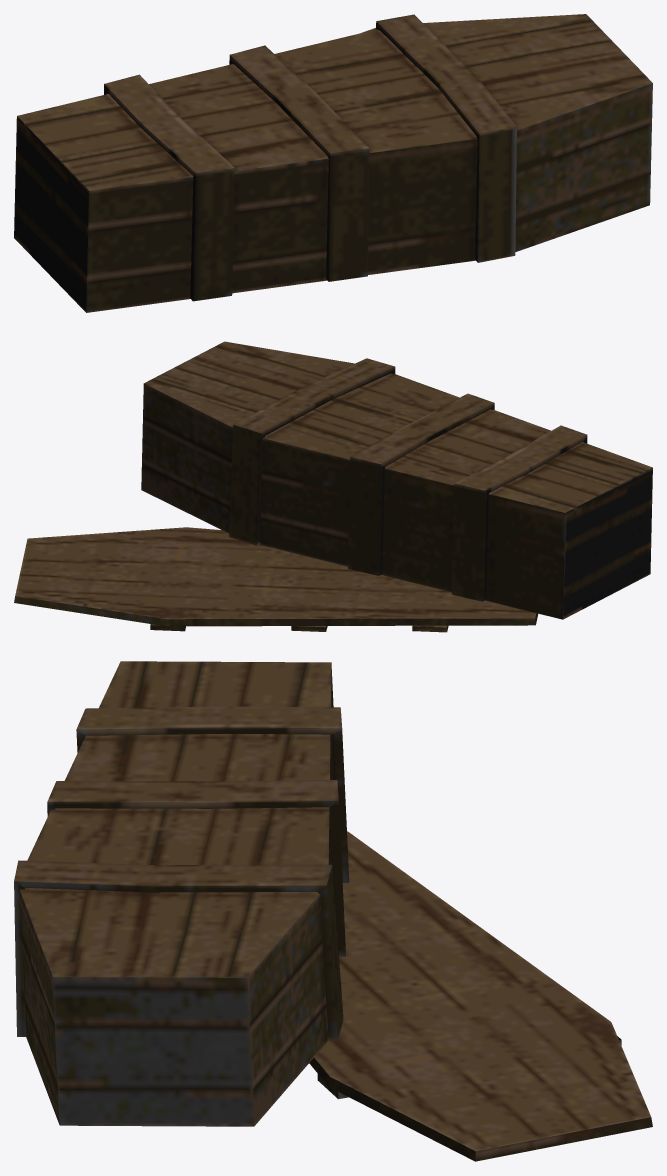
The model's file is Coffin_ExtraLid.fbx.
3 renders of one model, top to bottom at view 1: azimuth 30°, elevation 25°; view 2: azimuth 150°, elevation 25°; view 3: azimuth 270°, elevation 25°, orthographic. The views are drawn at different scales.
Parts seen in each view (by area): view 1: Coffin_ExtraLid; view 2: Coffin_ExtraLid; view 3: Coffin_ExtraLid.
Part boxes in pixels (<box>): Coffin_ExtraLid: <box>14,14,652,312</box>; Coffin_ExtraLid: <box>14,341,652,632</box>; Coffin_ExtraLid: <box>14,661,652,1161</box>.
Size of the model in its own units: 774 by 184 by 602.
